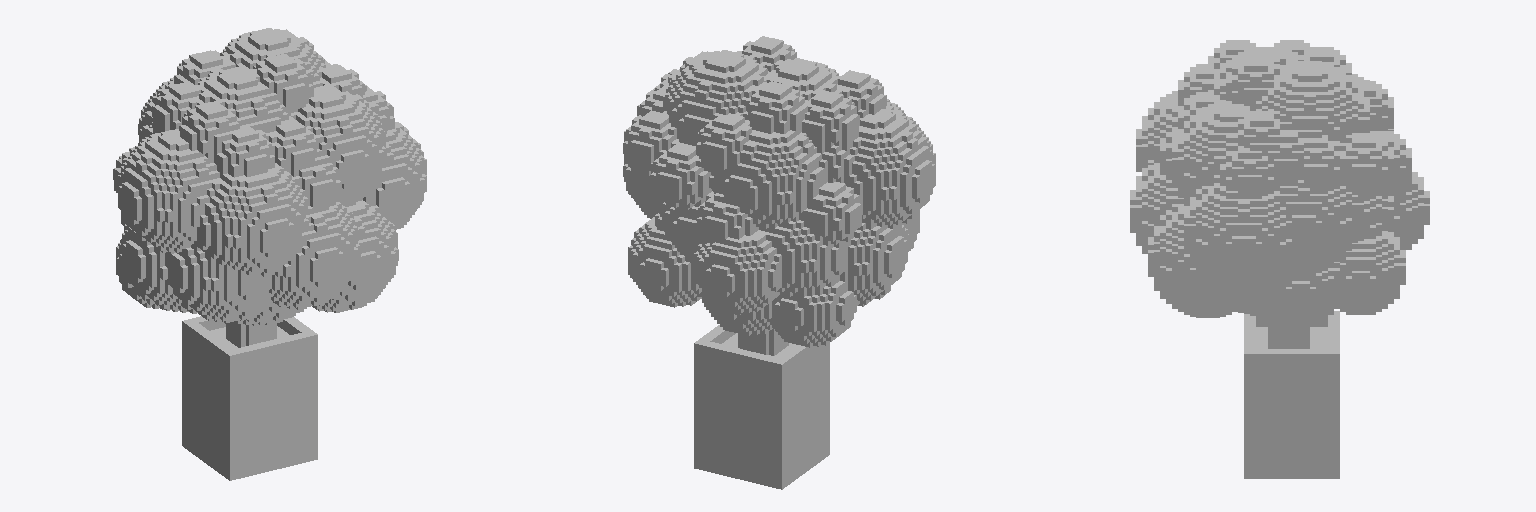
Rendered from Tree2.obj.
The picture shows the model from 3 angles: view 1: azimuth 30°, elevation 25°; view 2: azimuth 150°, elevation 25°; view 3: azimuth 270°, elevation 25°; orthographic projection.
Visible parts, largest first — view 1: object 1; view 2: object 1; view 3: object 1.
Boxes of the visible parts, <box> form: object 1: <box>113,28,426,480</box>; object 1: <box>623,36,935,489</box>; object 1: <box>1130,40,1429,478</box>.
Bounding box in the file's own units: 5.5 × 7.4 × 5.